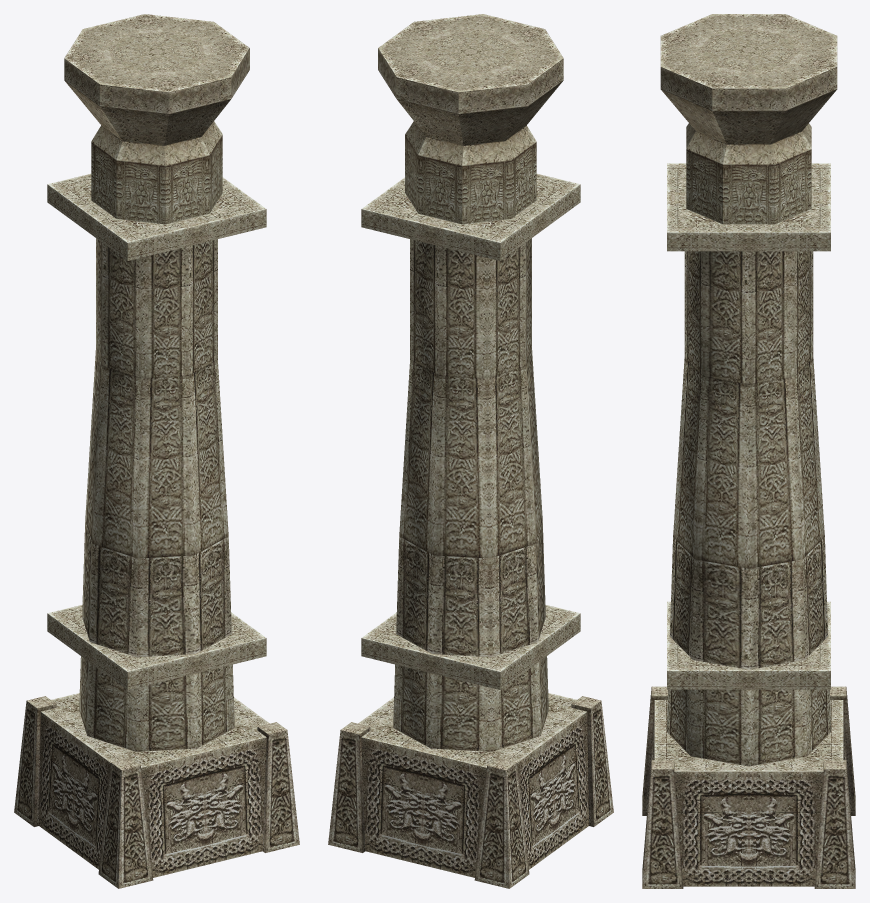
The model's file is general_obj_bigtoewr03.fbx.
3 renders of one model, left to right at view 1: azimuth 30°, elevation 25°; view 2: azimuth 150°, elevation 25°; view 3: azimuth 270°, elevation 25°, orthographic. The views are drawn at different scales.
Visible parts, largest first — view 1: Sphere01; view 2: Sphere01; view 3: Sphere01.
Boxes of the visible parts, bbox=[...] form: Sphere01: bbox=[14, 14, 299, 888]; Sphere01: bbox=[328, 14, 613, 888]; Sphere01: bbox=[642, 14, 855, 888].
Bounding box in the file's own units: 5.22 × 21.37 × 5.21.
